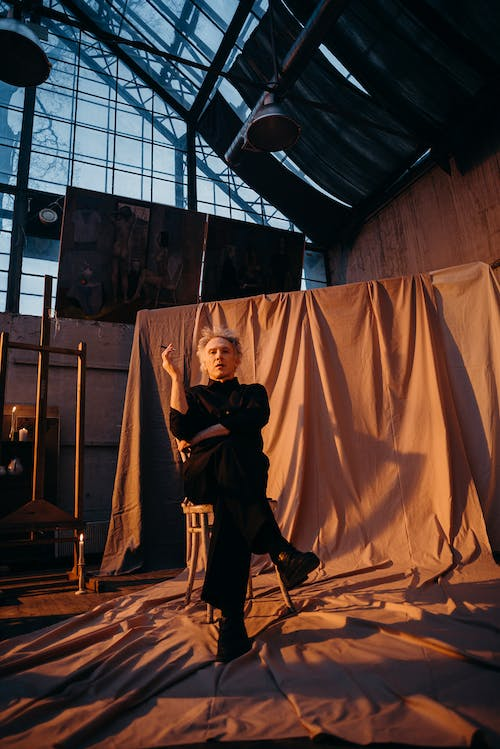cigarette: (157, 342, 178, 353)
